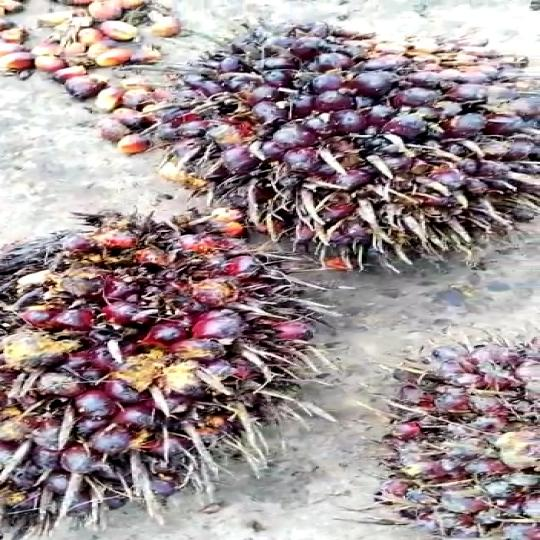masak: (0, 193, 357, 534), (117, 22, 540, 278)
